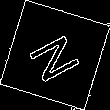N_NE: (23, 26, 87, 84)
